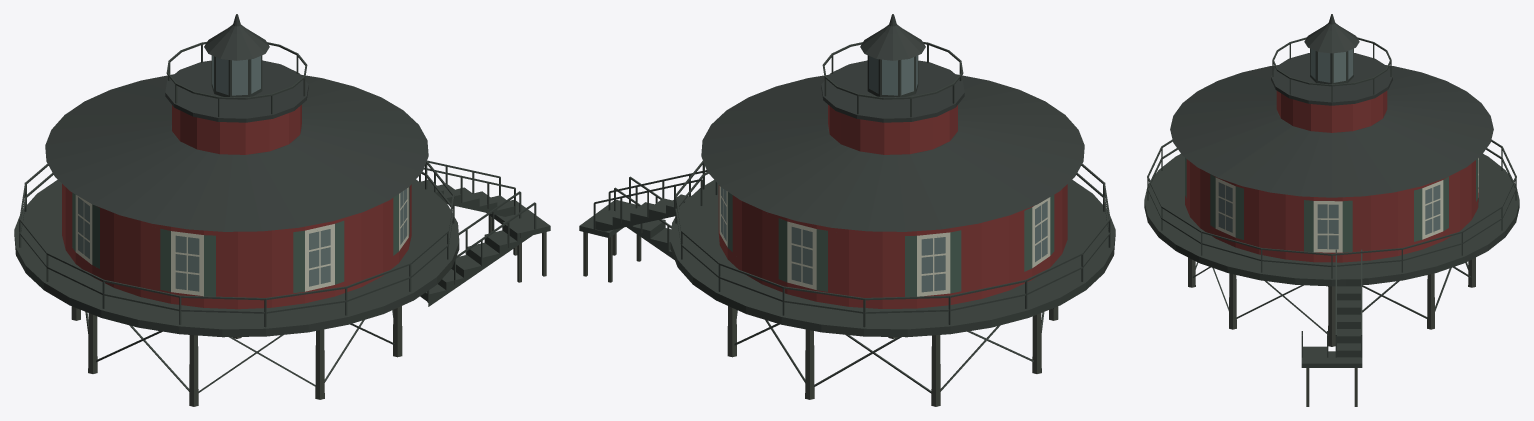
Rendered from seven-foot-knoll-lighthouse-far.glb.
3 views of the same model, side by side, from view 1: azimuth 30°, elevation 25°; view 2: azimuth 150°, elevation 25°; view 3: azimuth 270°, elevation 25° (orthographic). The views are drawn at different scales.
Visible parts, largest first — view 1: seven-foot-knoll-lighthouse-0-roof, seven-foot-knoll-lighthouse-0-steel, seven-foot-knoll-lighthouse-0-red, seven-foot-knoll-lighthouse-0-glass, seven-foot-knoll-lighthouse-0-shutter, seven-foot-knoll-lighthouse-0-column, seven-foot-knoll-lighthouse-0-white; view 2: seven-foot-knoll-lighthouse-0-roof, seven-foot-knoll-lighthouse-0-steel, seven-foot-knoll-lighthouse-0-red, seven-foot-knoll-lighthouse-0-glass, seven-foot-knoll-lighthouse-0-shutter, seven-foot-knoll-lighthouse-0-column, seven-foot-knoll-lighthouse-0-white; view 3: seven-foot-knoll-lighthouse-0-roof, seven-foot-knoll-lighthouse-0-steel, seven-foot-knoll-lighthouse-0-red, seven-foot-knoll-lighthouse-0-glass, seven-foot-knoll-lighthouse-0-shutter, seven-foot-knoll-lighthouse-0-white, seven-foot-knoll-lighthouse-0-column.
Part boxes in pixels (box(x1,y1,x2,y2)): seven-foot-knoll-lighthouse-0-roof: box(45, 14, 428, 231); seven-foot-knoll-lighthouse-0-steel: box(14, 42, 550, 392); seven-foot-knoll-lighthouse-0-red: box(62, 105, 411, 309); seven-foot-knoll-lighthouse-0-glass: box(78, 55, 407, 291); seven-foot-knoll-lighthouse-0-shutter: box(72, 187, 409, 296); seven-foot-knoll-lighthouse-0-column: box(71, 215, 546, 406); seven-foot-knoll-lighthouse-0-white: box(75, 187, 408, 296); seven-foot-knoll-lighthouse-0-roof: box(701, 14, 1084, 231); seven-foot-knoll-lighthouse-0-steel: box(579, 42, 1115, 393); seven-foot-knoll-lighthouse-0-red: box(718, 105, 1067, 308); seven-foot-knoll-lighthouse-0-glass: box(721, 55, 1047, 292); seven-foot-knoll-lighthouse-0-shutter: box(719, 186, 1054, 296); seven-foot-knoll-lighthouse-0-column: box(583, 232, 1058, 406); seven-foot-knoll-lighthouse-0-white: box(719, 186, 1050, 296); seven-foot-knoll-lighthouse-0-roof: box(1170, 14, 1493, 197); seven-foot-knoll-lighthouse-0-steel: box(1144, 37, 1519, 367); seven-foot-knoll-lighthouse-0-red: box(1185, 91, 1478, 262); seven-foot-knoll-lighthouse-0-glass: box(1218, 49, 1478, 249); seven-foot-knoll-lighthouse-0-shutter: box(1185, 158, 1477, 252); seven-foot-knoll-lighthouse-0-white: box(1215, 158, 1478, 252); seven-foot-knoll-lighthouse-0-column: box(1188, 257, 1475, 406).
Size of the model in its own units: 19.67 by 12.4 by 15.55.
